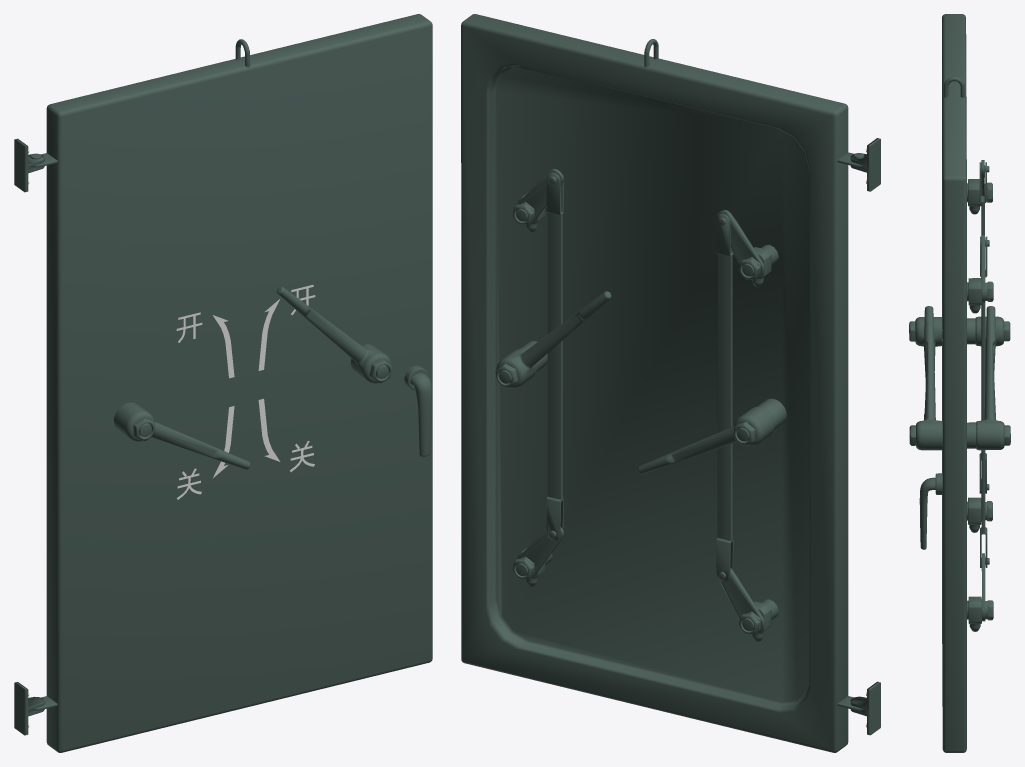
Rendered from 单扇人防门.glb.
3 renders of one model, left to right at view 1: azimuth 30°, elevation 25°; view 2: azimuth 150°, elevation 25°; view 3: azimuth 270°, elevation 25°, orthographic. The views are drawn at different scales.
Visible parts, largest first — view 1: 1单扇人防门, 文本.088, 柱体.693, 柱体.692, 立方体.354, 柱体.691; view 2: 1单扇人防门, 立方体.356, 立方体.355, 柱体.693, 柱体.692, 立方体.354; view 3: 1单扇人防门, 立方体.356, 柱体.692, 柱体.693, 柱体.691, 立方体.355, 柱体.694, 柱体.695.
Part boxes in pixels (x1,y1,x2,y2): 1单扇人防门: (46, 14, 432, 752); 文本.088: (176, 284, 315, 499); 柱体.693: (114, 402, 250, 469); 柱体.692: (276, 286, 392, 383); 立方体.354: (14, 138, 44, 735); 柱体.691: (404, 365, 431, 456); 1单扇人防门: (461, 14, 848, 752); 立方体.356: (512, 168, 778, 641); 立方体.355: (716, 214, 733, 581); 柱体.693: (638, 406, 774, 474); 柱体.692: (495, 291, 611, 388); 立方体.354: (850, 138, 880, 735); 1单扇人防门: (942, 14, 966, 752); 立方体.356: (967, 160, 993, 631); 柱体.692: (909, 306, 1010, 450); 柱体.693: (909, 316, 1010, 419); 柱体.691: (919, 473, 942, 549); 立方体.355: (979, 162, 986, 493); 柱体.694: (967, 422, 976, 448); 柱体.695: (967, 318, 975, 344).
Size of the model in its own units: 1.4 by 2.17 by 0.3356.
